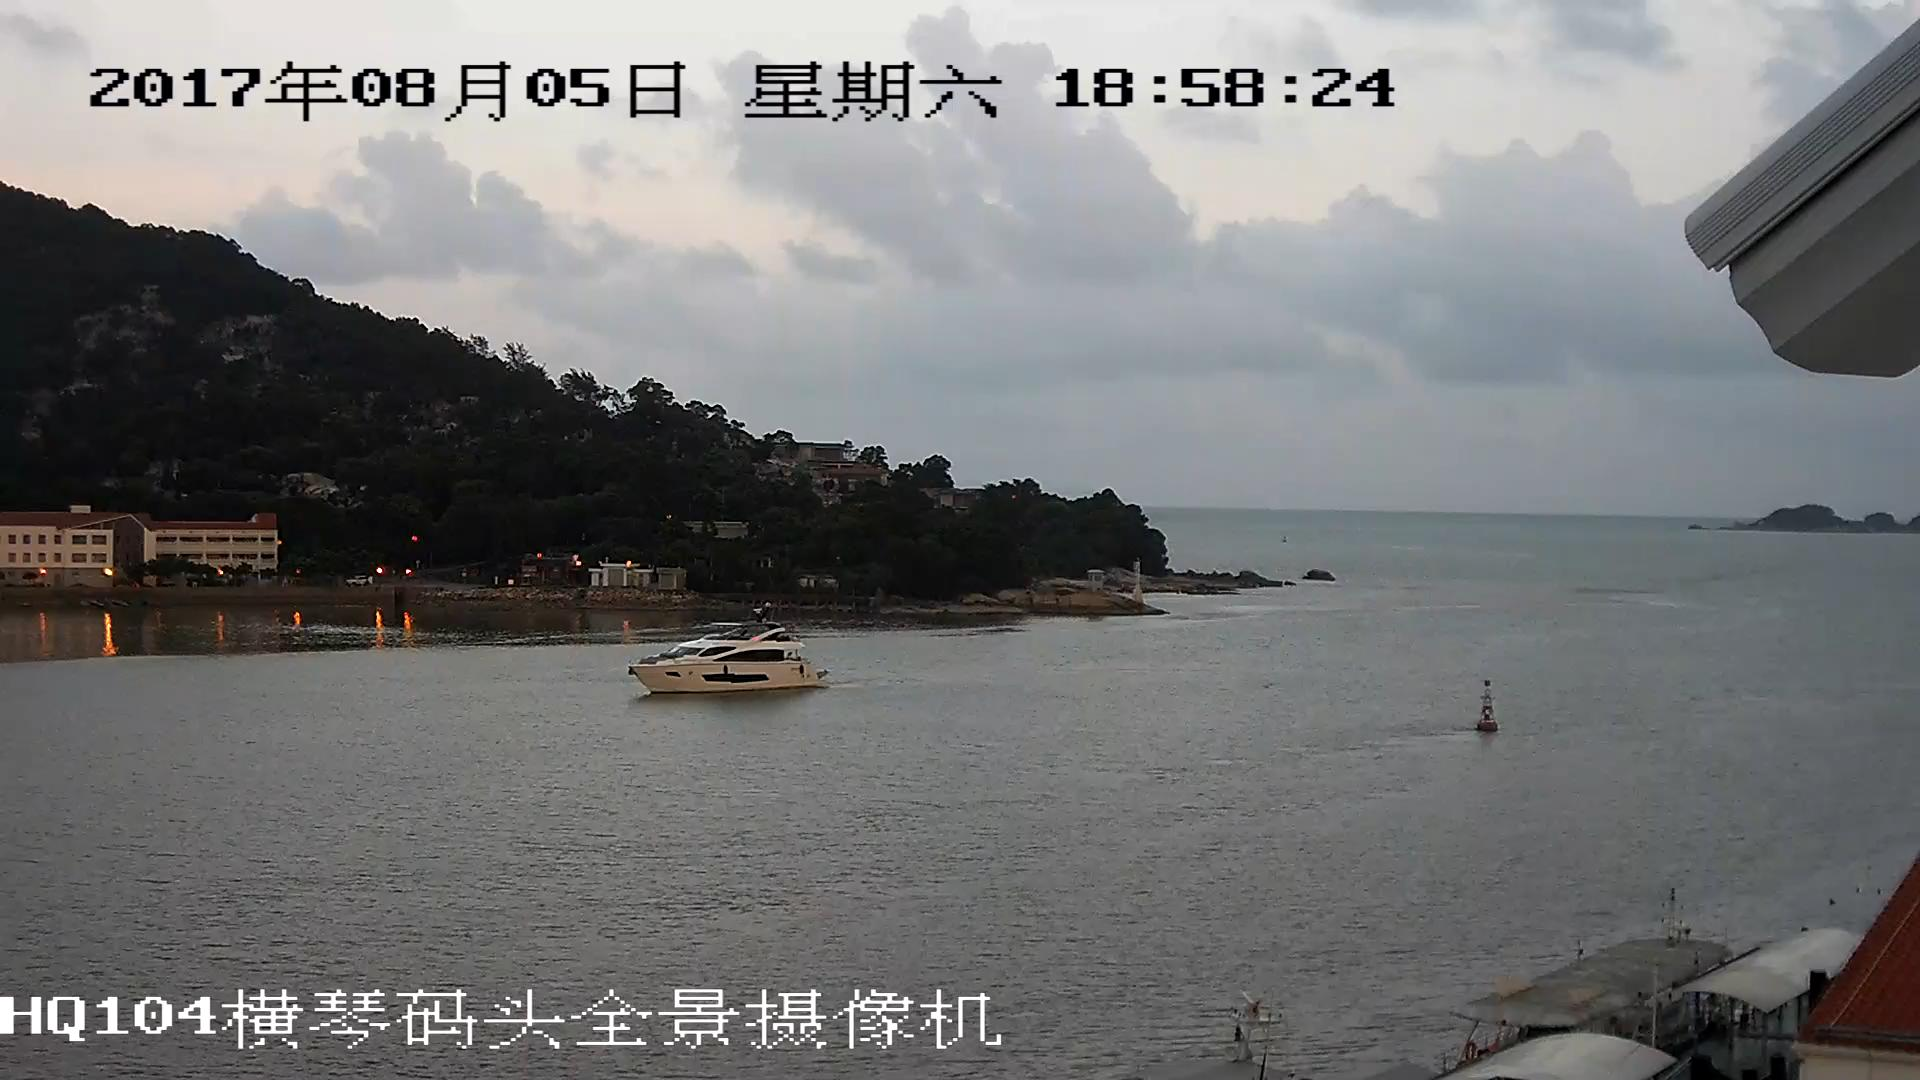passenger ship: (629, 617, 816, 694)
